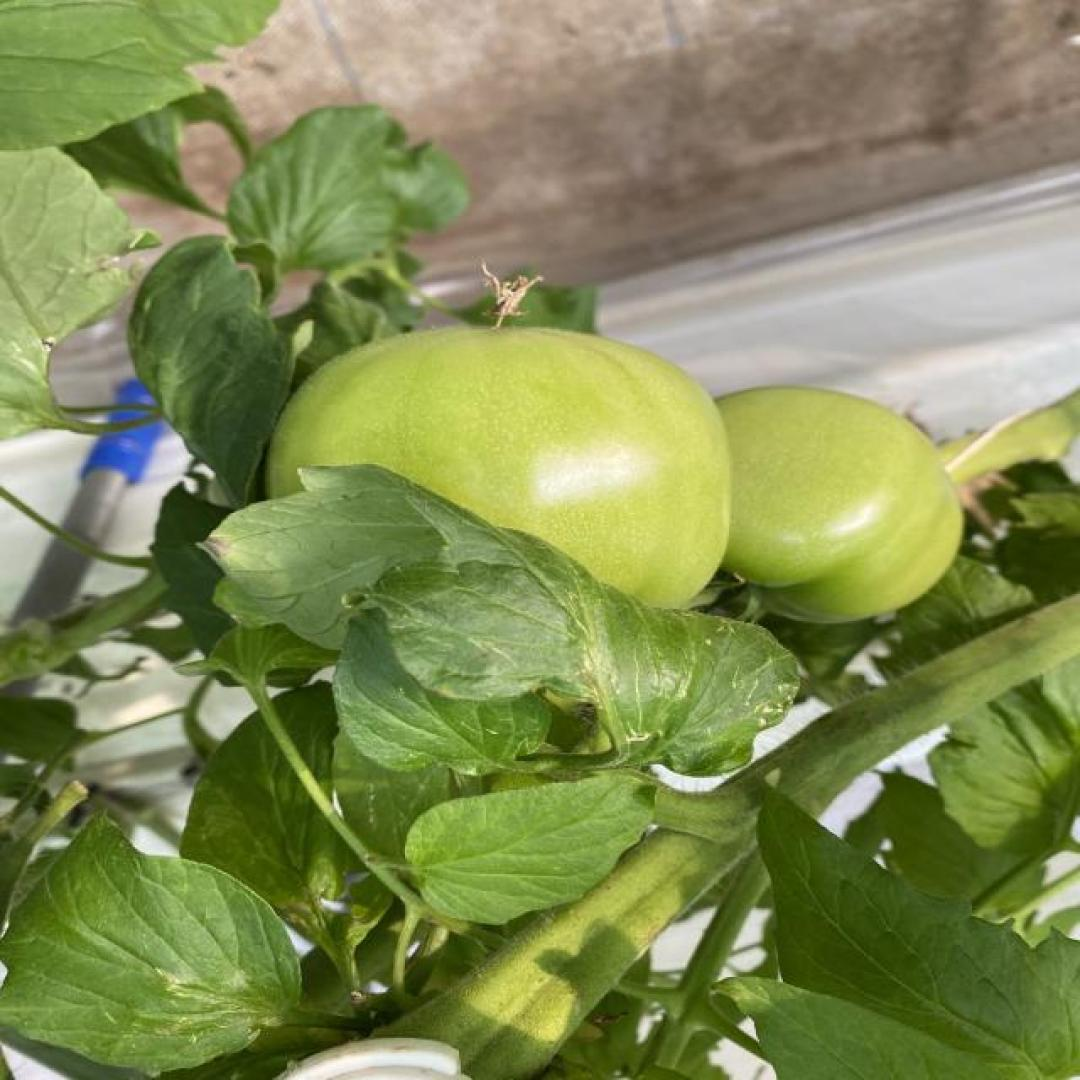mentah: (264, 334, 732, 648), (656, 385, 966, 626)
